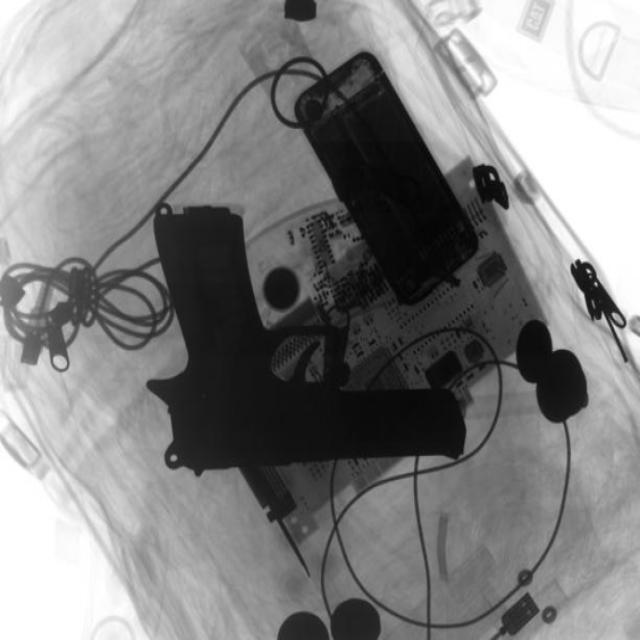GUN: (142, 204, 472, 484)
